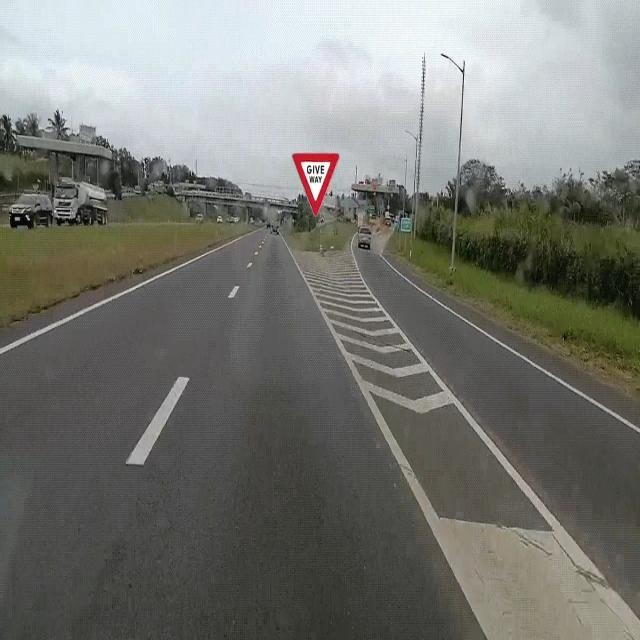Ceder-le-Passage: (290, 144, 342, 224)
